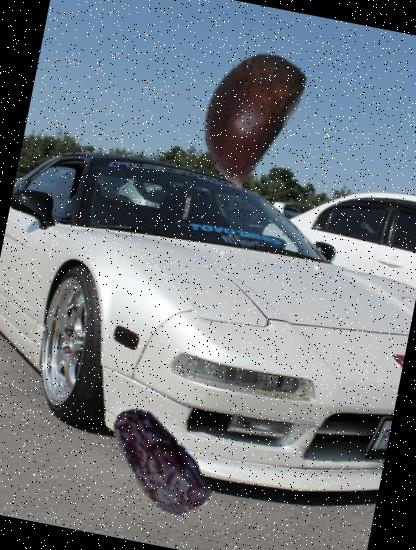Chestnut: (166, 32, 327, 194)
Dates: (84, 389, 232, 537)
